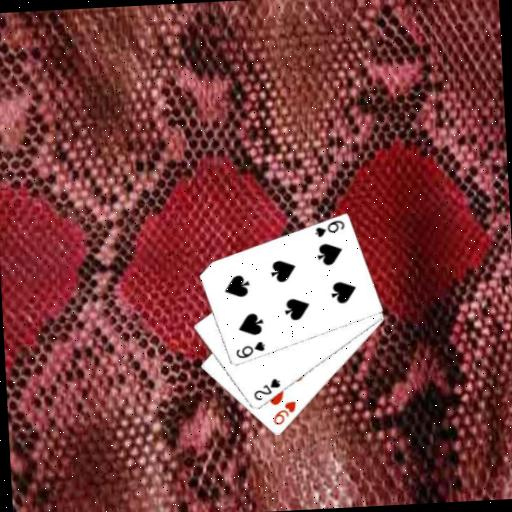2S: (250, 375, 283, 403)
6S: (232, 339, 267, 361), (311, 217, 346, 239)
9H: (269, 399, 298, 428)
